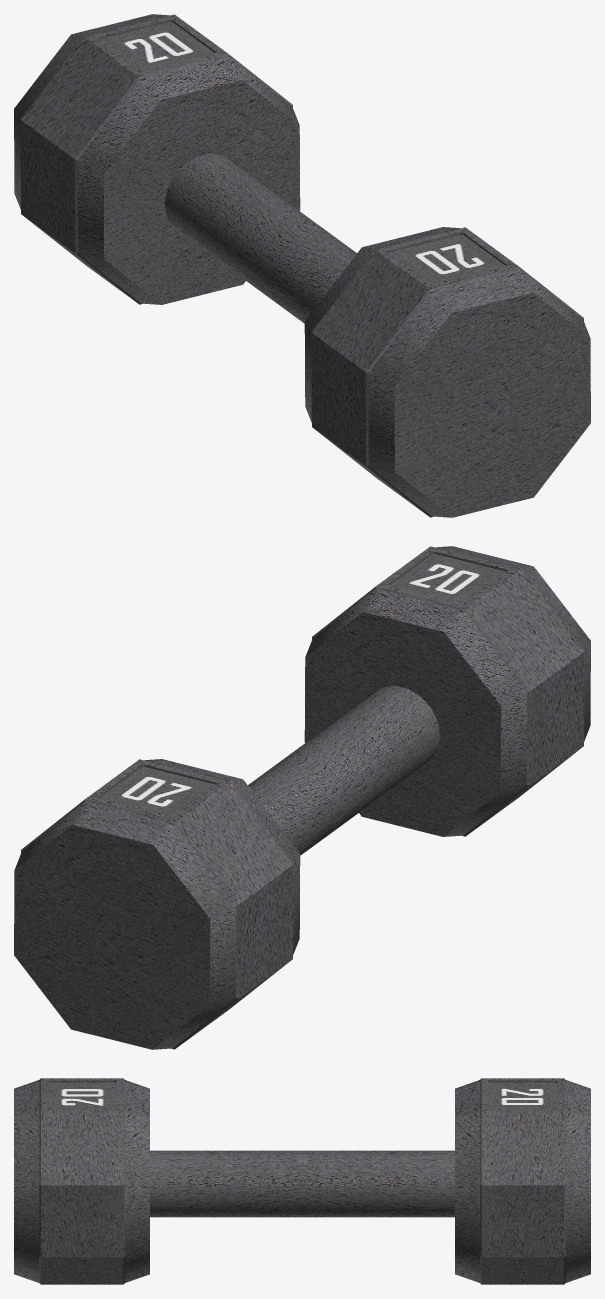
Rendered from 20 Pound Weight.FBX.
3 renders of one model, top to bottom at view 1: azimuth 30°, elevation 25°; view 2: azimuth 150°, elevation 25°; view 3: azimuth 270°, elevation 25°, orthographic. The views are drawn at different scales.
Parts seen in each view (by area): view 1: 20 Pound Weight; view 2: 20 Pound Weight; view 3: 20 Pound Weight.
Boxes of the visible parts, box(x1,y1,x2,y2) form: 20 Pound Weight: box(14, 14, 590, 517); 20 Pound Weight: box(14, 546, 590, 1049); 20 Pound Weight: box(14, 1078, 590, 1284).
Bounding box in the file's own units: 110 × 110 × 333.
Materials: 2 (2 with a texture image).
